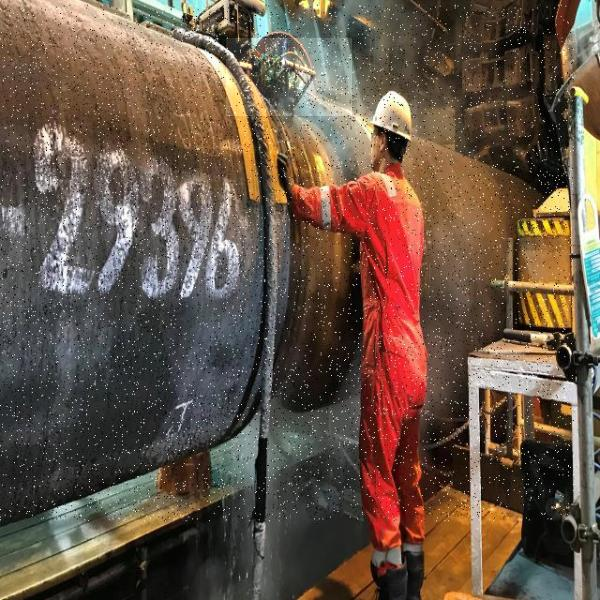gas: (226, 38, 352, 116)
